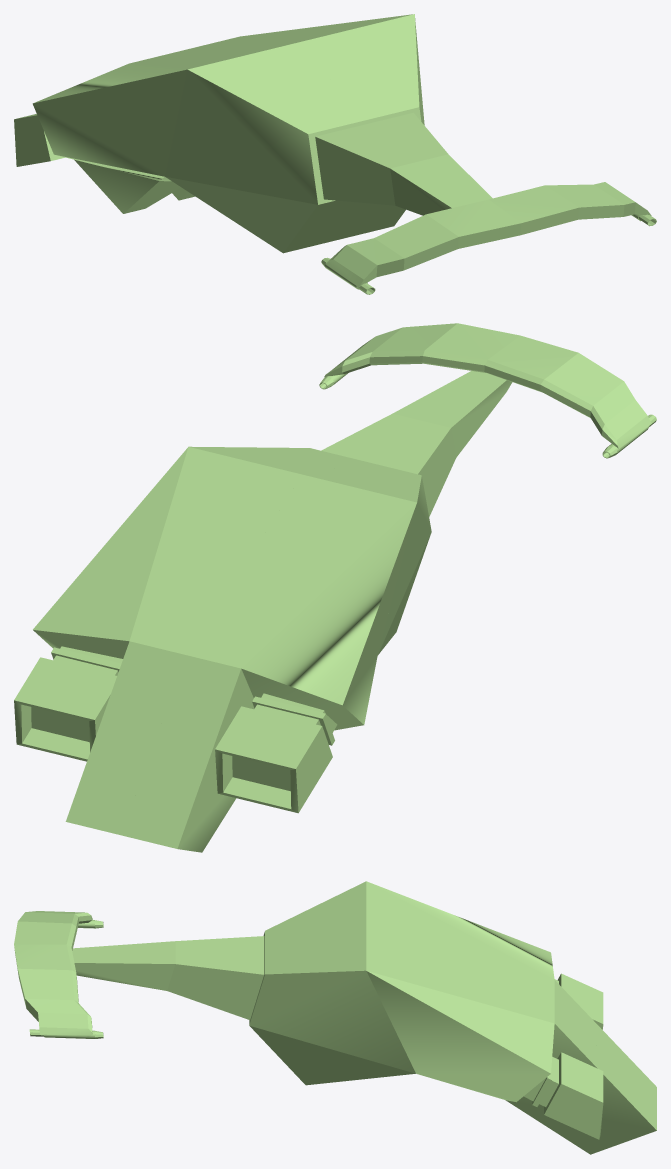
The model's file is carrier.obj.
3 views of the same model, one above another, from view 1: azimuth 30°, elevation 25°; view 2: azimuth 150°, elevation 25°; view 3: azimuth 270°, elevation 25° (orthographic). The views are drawn at different scales.
Visible parts, largest first — view 1: Box001; view 2: Box001; view 3: Box001.
Boxes of the visible parts, <box> form: Box001: <box>14,14,656,294</box>; Box001: <box>14,323,656,852</box>; Box001: <box>14,881,656,1154</box>.
Bounding box in the file's own units: 461 × 378 × 1032.
